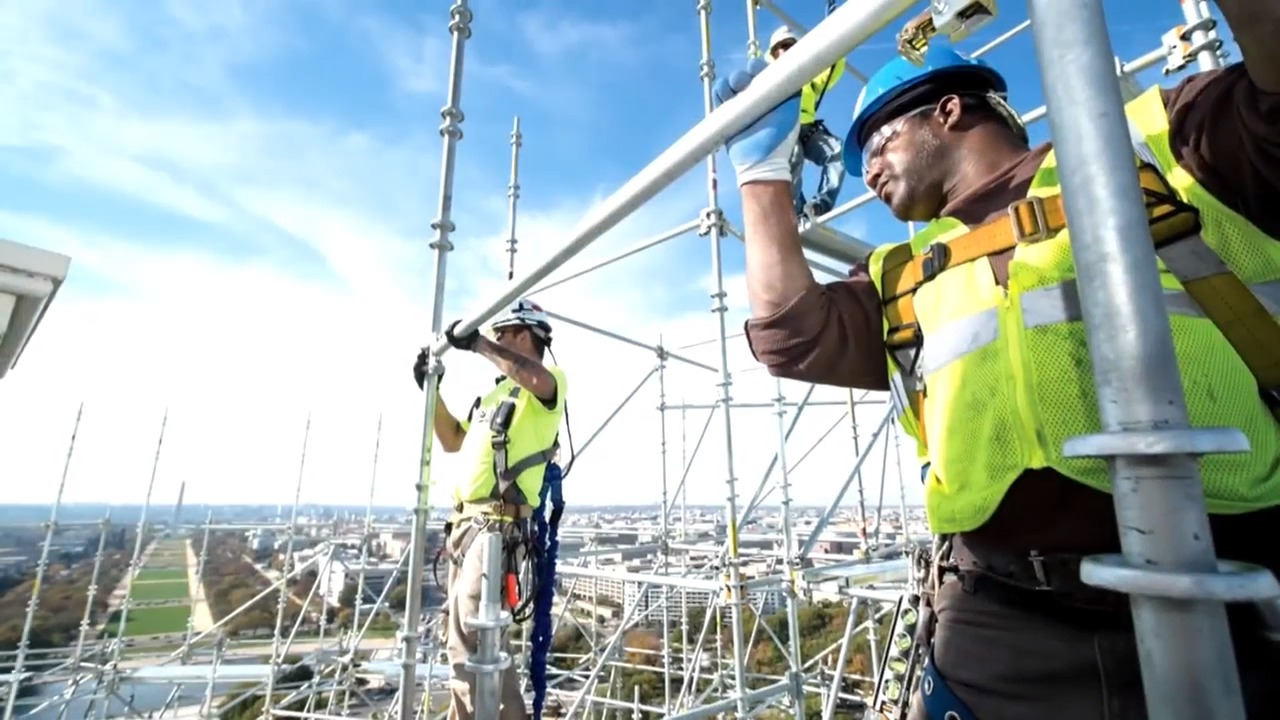hard hat: (841, 38, 1003, 177), (494, 295, 554, 336)
high-vis: (864, 91, 1280, 531), (458, 366, 564, 498)
